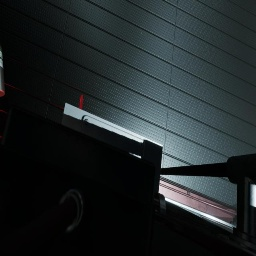0: (0, 41, 5, 97)
SafetySwitchPanel ,: (61, 94, 163, 200)
